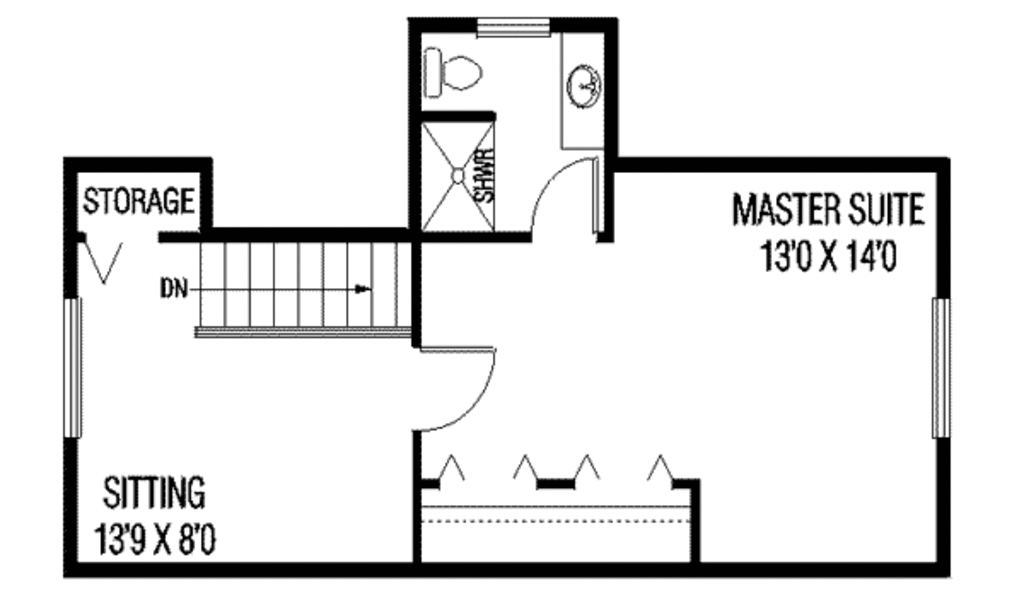door: (416, 342, 501, 440), (519, 156, 599, 238)
large_sink: (410, 40, 488, 108)
small_sink: (556, 29, 606, 151)
stairs: (167, 238, 422, 342)
window: (62, 296, 87, 439), (929, 295, 953, 443), (476, 11, 556, 42)
